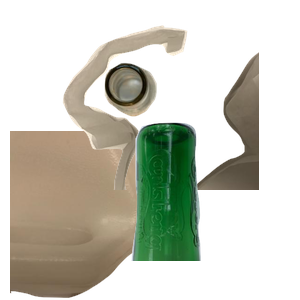glass: (129, 120, 300, 300)
metal: (102, 60, 252, 169)
plastic: (10, 131, 196, 300)
trash: (60, 23, 300, 203)
